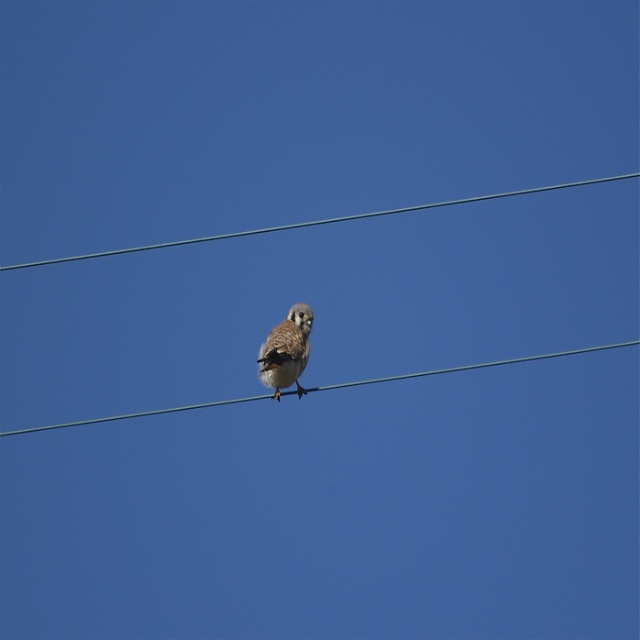Sparrow: (255, 302, 314, 405)
